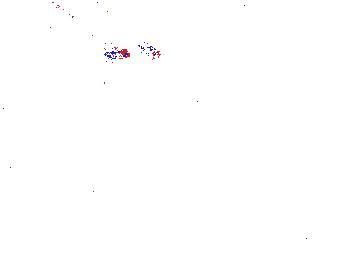X-ray fish: (259, 160, 308, 192)
red belly glassfish: (102, 45, 131, 62), (141, 42, 162, 62)
redtail glassfish: (42, 19, 110, 47), (47, 1, 111, 13)
